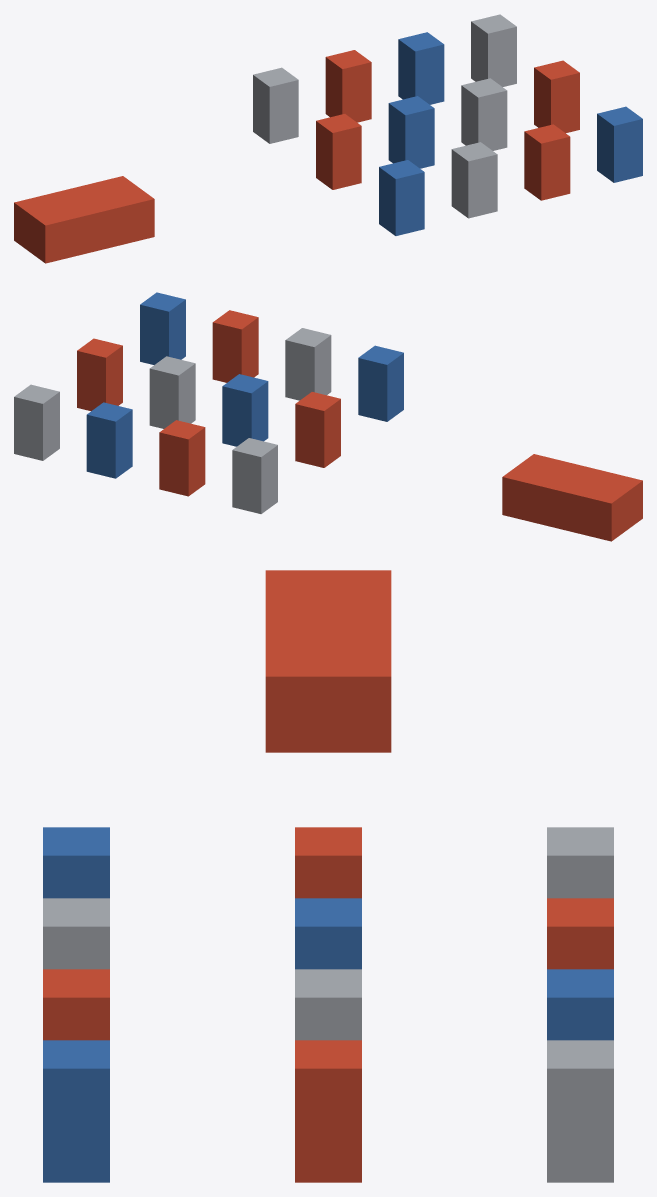
The model's file is B-car-pan.glb.
3 views of the same model, one above another, from view 1: azimuth 30°, elevation 25°; view 2: azimuth 150°, elevation 25°; view 3: azimuth 270°, elevation 25° (orthographic). The views are drawn at different scales.
Visible parts, largest first — view 1: box-13, box-10, box-11, box-1, box-5, box-12, box-9, box-3, box-2, box-7, box-6, box-8 (+1 smaller); view 2: box-13, box-2, box-3, box-4, box-5, box-9, box-1, box-11, box-7, box-10, box-6, box-8 (+1 smaller); view 3: box-13, box-4, box-8, box-12, box-1, box-2, box-3, box-5, box-6, box-7, box-9, box-10 (+1 smaller).
Part boxes in pixels (x1,y1,x2,y2): box-13: (14, 176, 154, 263); box-10: (451, 142, 497, 218); box-11: (524, 124, 570, 200); box-1: (253, 67, 298, 143); box-5: (316, 114, 361, 189); box-12: (597, 106, 642, 182); box-9: (379, 160, 424, 235); box-3: (398, 32, 444, 104); box-2: (325, 50, 371, 122); box-7: (461, 78, 507, 150); box-6: (388, 96, 434, 168); box-8: (534, 60, 579, 132); box-13: (502, 454, 642, 541); box-2: (159, 420, 205, 496); box-3: (86, 402, 132, 478); box-4: (14, 384, 59, 460); box-5: (295, 392, 340, 467); box-9: (358, 345, 403, 421); box-1: (232, 438, 277, 513); box-11: (212, 310, 258, 382); box-7: (149, 356, 195, 428); box-10: (285, 328, 331, 400); box-6: (222, 374, 268, 446); box-8: (77, 338, 122, 410); box-13: (265, 570, 391, 752); box-4: (547, 1040, 613, 1182); box-8: (295, 1040, 361, 1182); box-12: (43, 1040, 109, 1182); box-1: (547, 827, 613, 898); box-2: (547, 898, 613, 969); box-3: (547, 969, 613, 1040); box-5: (295, 827, 361, 898); box-6: (295, 898, 361, 969); box-7: (295, 969, 361, 1040); box-9: (43, 827, 109, 898); box-10: (43, 898, 109, 969).
Size of what is drawn, in the model's own units: 14.9 by 1.5 by 6.8.
